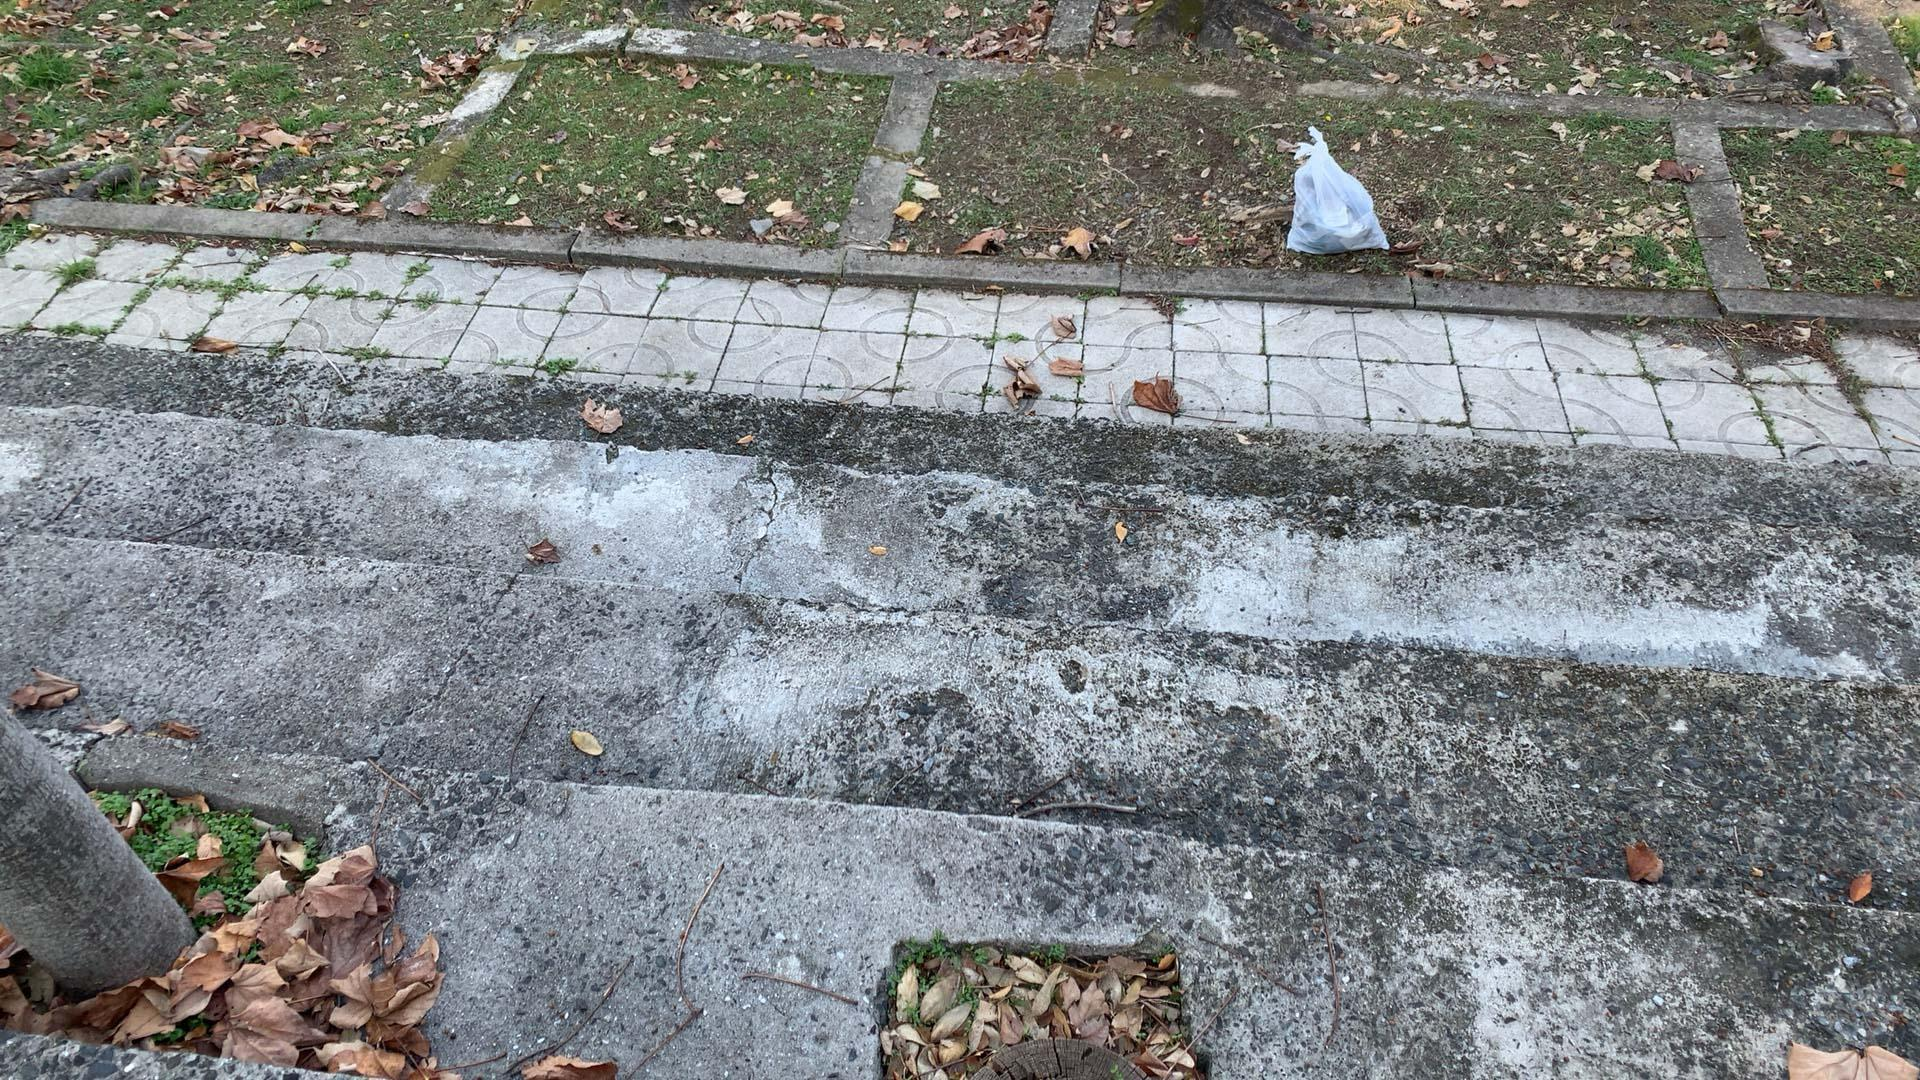white_bag: (1274, 120, 1400, 265)
